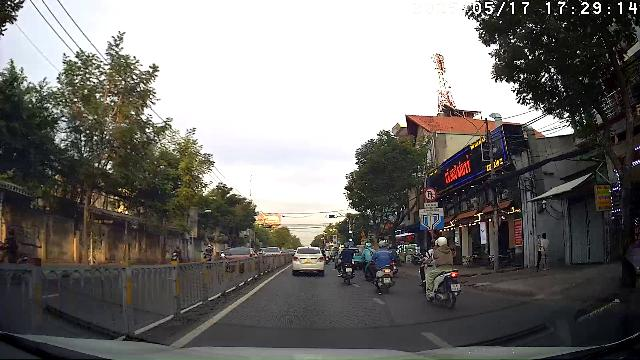124b-cam-oto-quay-dau-xe: (424, 187, 436, 201)
